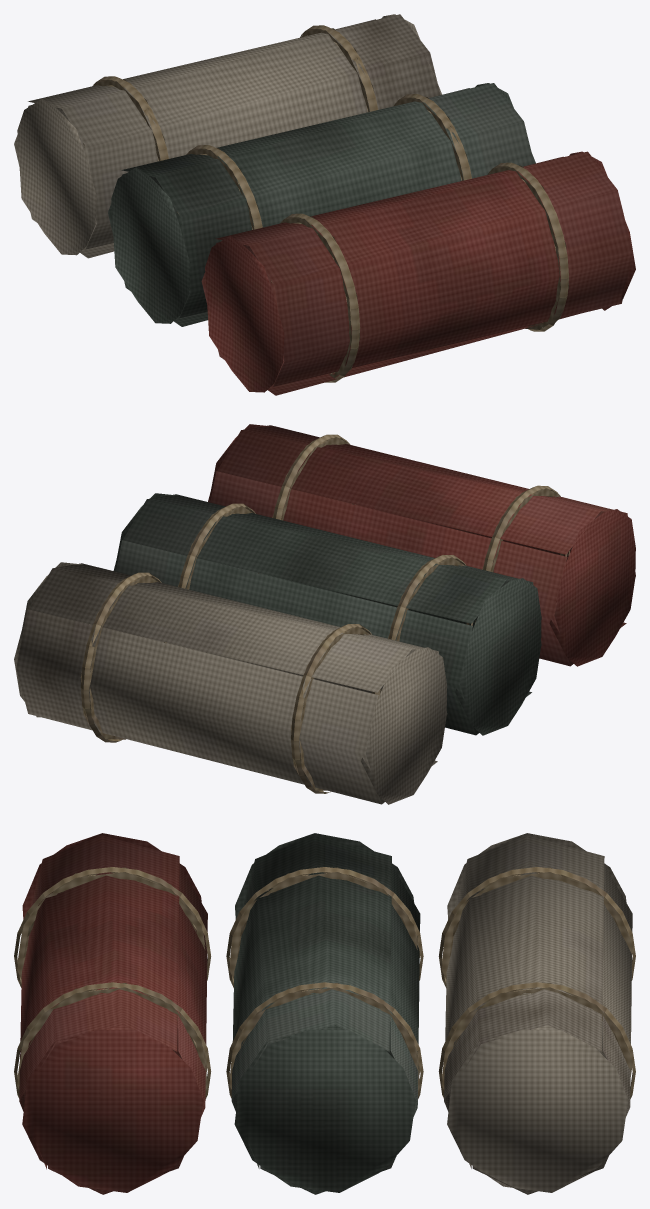
File: CL05_RolledBlankets.glb
3 views of the same model, one above another, from view 1: azimuth 30°, elevation 25°; view 2: azimuth 150°, elevation 25°; view 3: azimuth 270°, elevation 25° (orthographic). The views are drawn at different scales.
Visible parts, largest first — view 1: CL05_RolledBlankets; view 2: CL05_RolledBlankets; view 3: CL05_RolledBlankets.
Part boxes in pixels (box(x1,y1,x2,y2)): CL05_RolledBlankets: box(14, 14, 635, 395); CL05_RolledBlankets: box(14, 424, 635, 804); CL05_RolledBlankets: box(14, 833, 635, 1194).
Size of the model in its own units: 0.4488 by 0.1902 by 0.6.
Materials: 4 (4 with a texture image).
